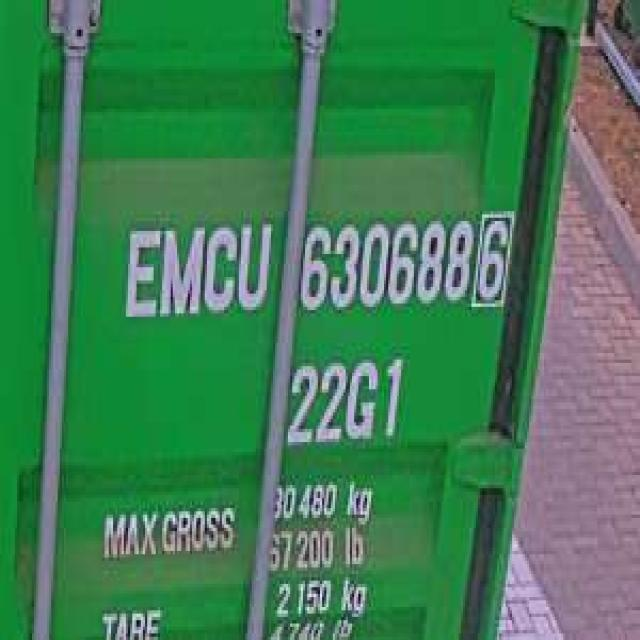dv: (472, 198, 514, 313)
owner: (117, 208, 273, 330)
serial: (294, 208, 472, 323)
size: (282, 350, 408, 455)
